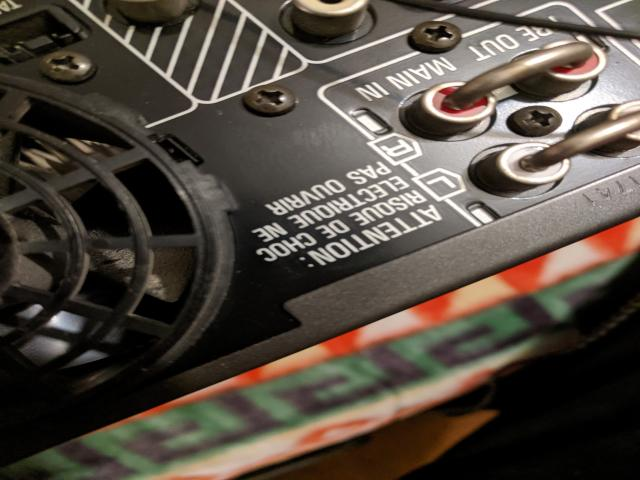CRS: (410, 18, 465, 53), (41, 52, 95, 81), (242, 86, 297, 114)
